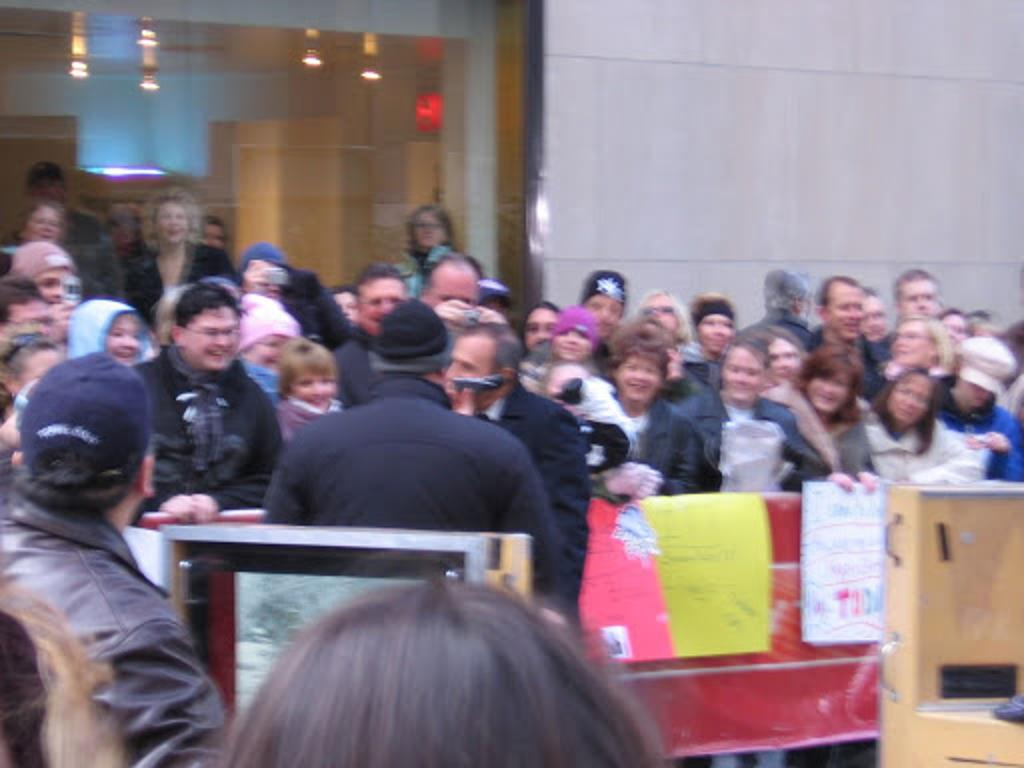face: (424, 263, 478, 342), (443, 340, 495, 414), (184, 304, 237, 370), (358, 279, 406, 337), (245, 326, 294, 376), (290, 364, 335, 416), (888, 370, 932, 422), (807, 359, 850, 412), (824, 286, 865, 339), (579, 292, 622, 339), (615, 359, 659, 403), (28, 264, 69, 311), (723, 348, 760, 400), (639, 296, 678, 345), (101, 314, 137, 367), (522, 311, 563, 354), (953, 370, 991, 414), (899, 279, 936, 323), (893, 319, 930, 363), (697, 311, 733, 352), (765, 339, 798, 383), (855, 293, 885, 341), (155, 202, 188, 245), (553, 326, 593, 360), (27, 205, 59, 245), (247, 265, 279, 305), (327, 293, 358, 334), (412, 213, 444, 247), (195, 221, 224, 257), (939, 314, 963, 347)
